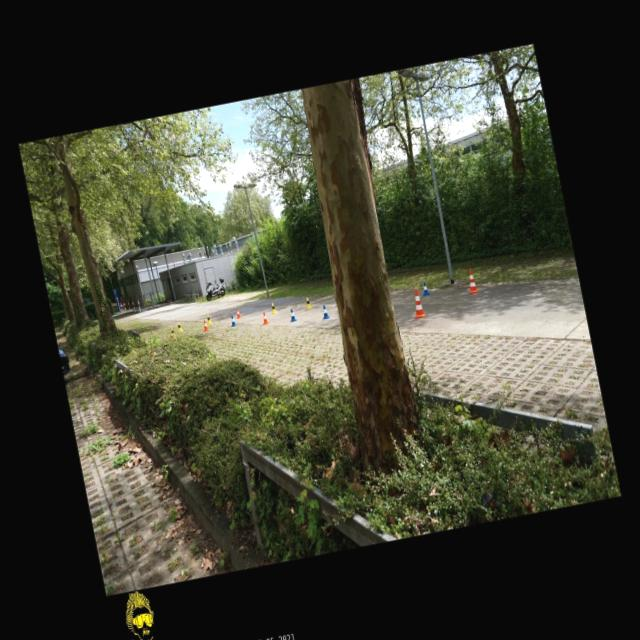blue_cone: (320, 304, 330, 320), (421, 282, 430, 296), (288, 308, 296, 322), (230, 314, 238, 326)
large_orange_cone: (410, 288, 426, 318), (466, 268, 478, 294)
orange_cone: (202, 319, 210, 332), (261, 312, 269, 324), (236, 308, 242, 318)
yellow_cone: (270, 302, 278, 314), (305, 297, 312, 309), (205, 313, 212, 324), (176, 322, 183, 332), (170, 327, 176, 336)
